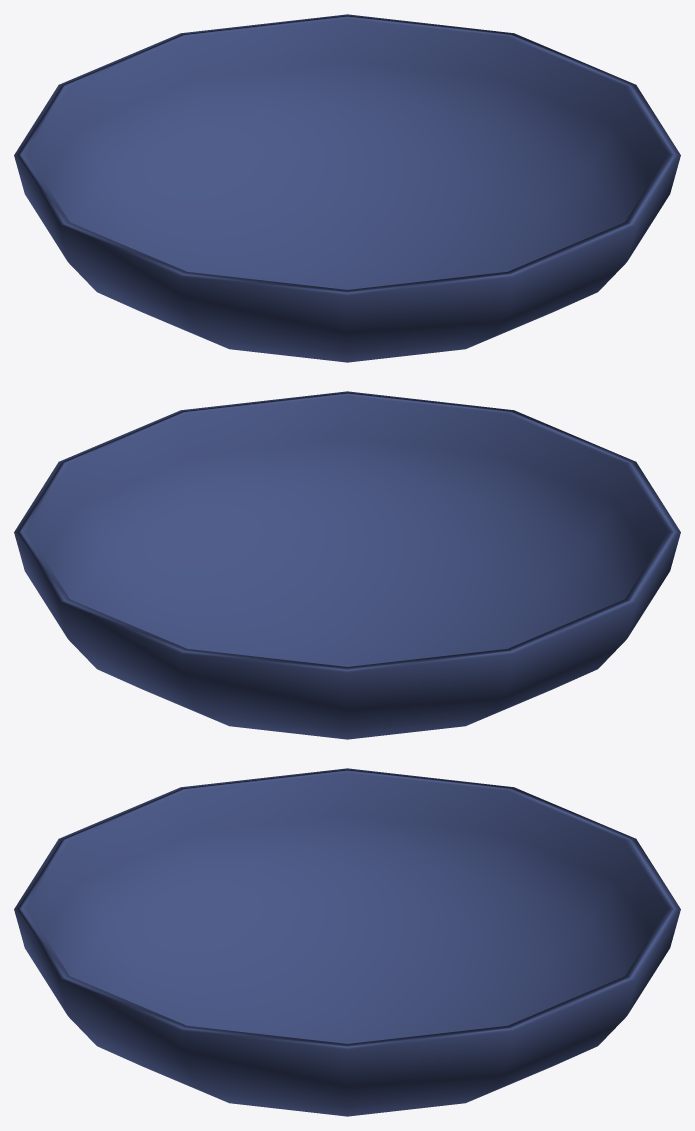
Rendered from fruitBowl.fbx.
3 views of the same model, one above another, from view 1: azimuth 30°, elevation 25°; view 2: azimuth 150°, elevation 25°; view 3: azimuth 270°, elevation 25° (orthographic).
Parts seen in each view (by area): view 1: fruitBowl; view 2: fruitBowl; view 3: fruitBowl.
Part boxes in pixels (x1,y1,x2,y2): fruitBowl: (14, 14, 680, 362); fruitBowl: (14, 391, 680, 739); fruitBowl: (14, 768, 680, 1116).
Bounding box in the file's own units: 0.8413 × 0.2131 × 0.8413.
